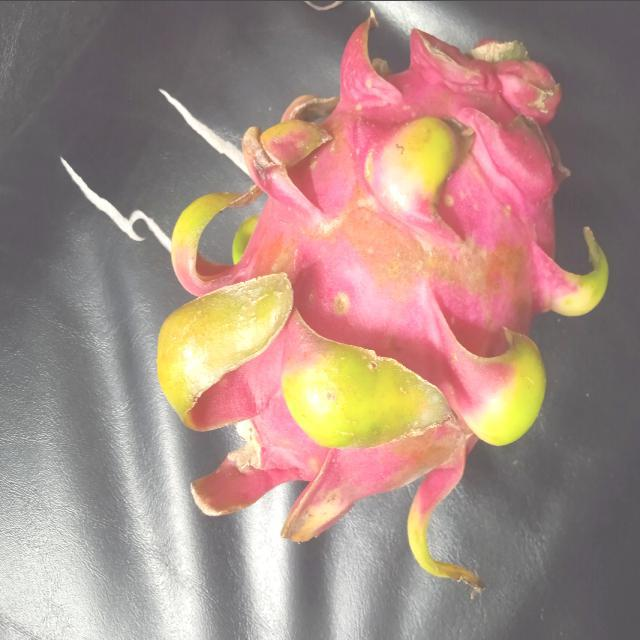do: (152, 18, 614, 596)
